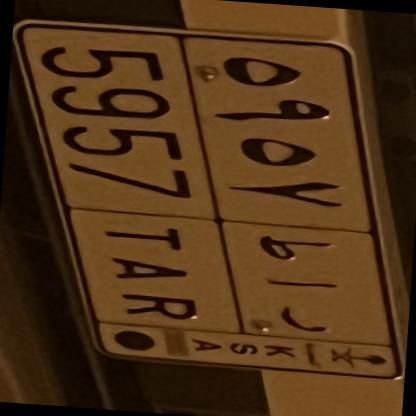english: (21, 20, 221, 336)
